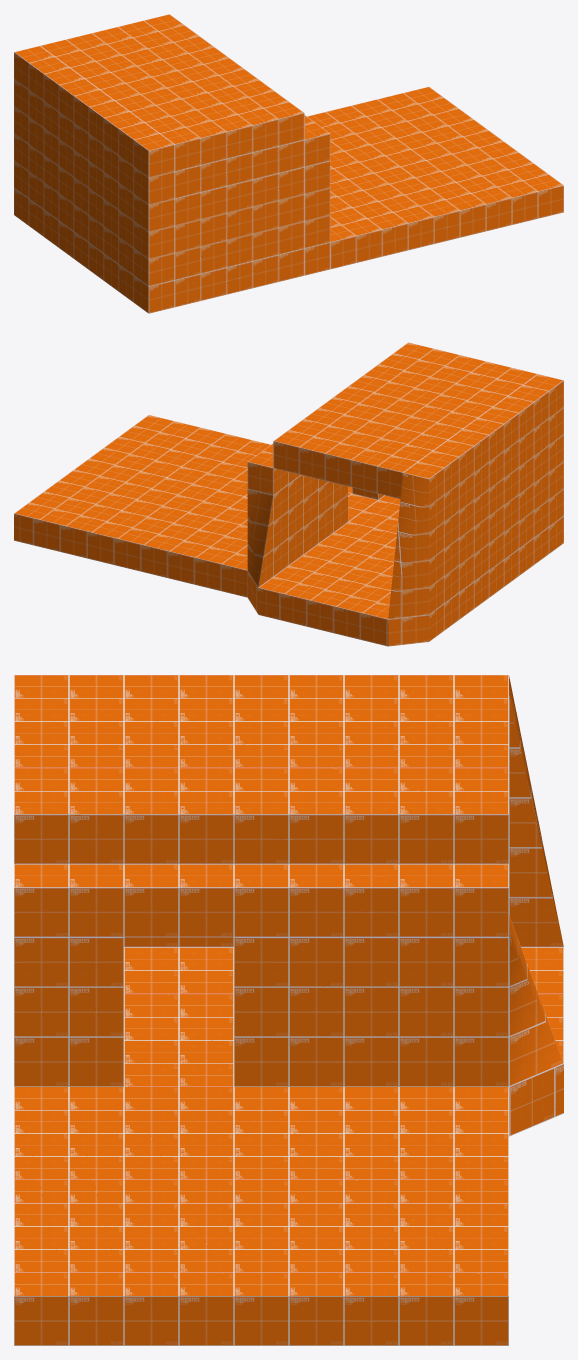
The model's file is asdasdasd.obj.
3 renders of one model, top to bottom at view 1: azimuth 30°, elevation 25°; view 2: azimuth 150°, elevation 25°; view 3: azimuth 270°, elevation 25°, orthographic. The views are drawn at different scales.
Parts seen in each view (by area): view 1: Cube_0; view 2: Cube_0; view 3: Cube_0.
Boxes of the visible parts, x1,y1,x2,y2 form: Cube_0: (14,14,563,313); Cube_0: (14,342,563,646); Cube_0: (14,675,563,1345).
Size of the model in its own units: 16 by 6 by 10.
2 materials, 1 textured.
